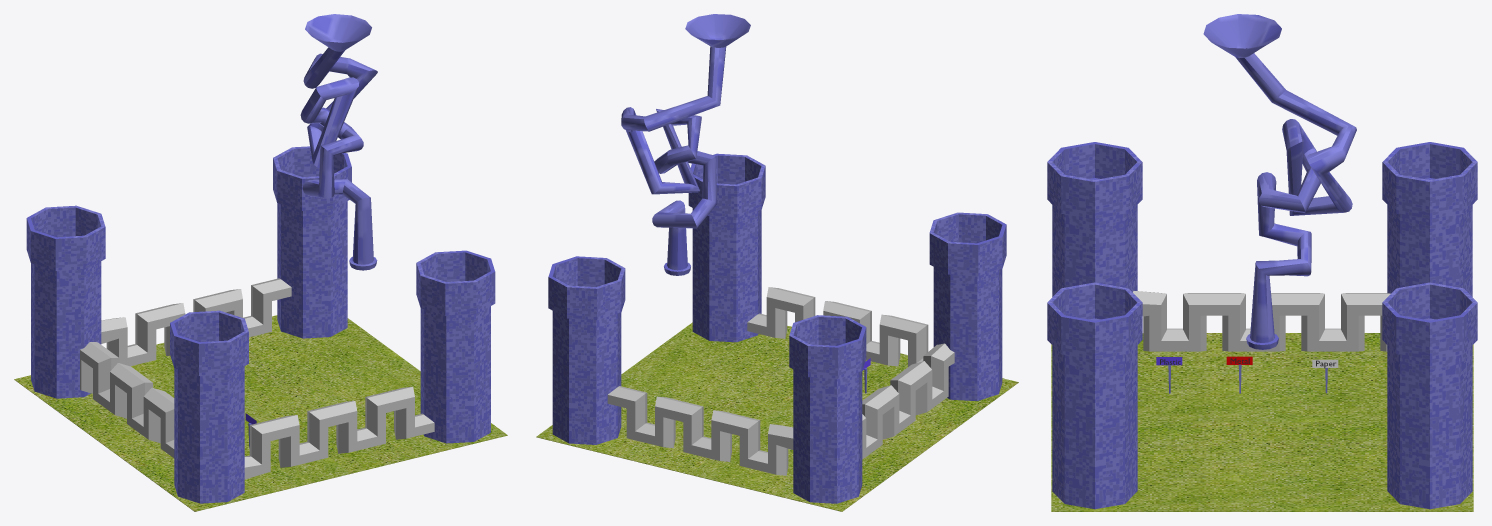
The picture shows the model from 3 angles, left to right: view 1: azimuth 30°, elevation 25°; view 2: azimuth 150°, elevation 25°; view 3: azimuth 270°, elevation 25°; orthographic projection. The views are drawn at different scales.
Visible parts, largest first — view 1: boundary, FloorBaseGrass_01, Plane, Circle.001; view 2: boundary, FloorBaseGrass_01, Plane, Circle.001; view 3: boundary, FloorBaseGrass_01, Circle.001, Plane, Trashbin_tubes.009.
Boxes of the visible parts, x1,y1,x2,y2 form: boundary: (26, 146, 495, 503); FloorBaseGrass_01: (14, 315, 507, 511); Plane: (80, 278, 434, 479); Circle.001: (300, 14, 377, 270); boundary: (548, 153, 1006, 503); FloorBaseGrass_01: (536, 322, 1018, 511); Plane: (607, 287, 954, 475); Circle.001: (621, 14, 750, 275); boundary: (1047, 142, 1477, 509); FloorBaseGrass_01: (1051, 333, 1473, 511); Circle.001: (1203, 14, 1356, 349); Plane: (1133, 291, 1390, 351); Trashbin_tubes.009: (1156, 356, 1338, 367).
Size of what is drawn, in the model's own units: 16.2 by 18.13 by 16.3.
Materials: 5 (3 with a texture image).
